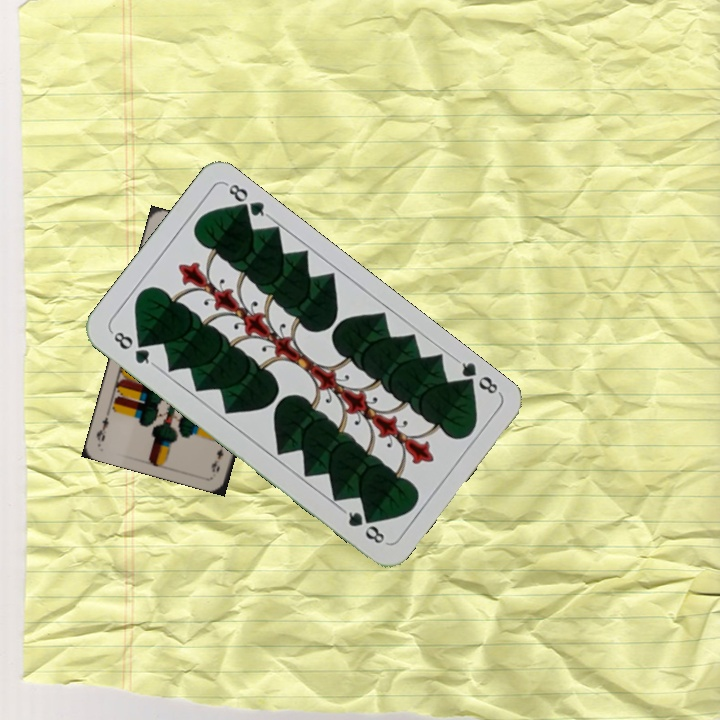E9: (207, 445, 226, 475)
G8: (107, 327, 158, 369), (452, 355, 503, 397)
